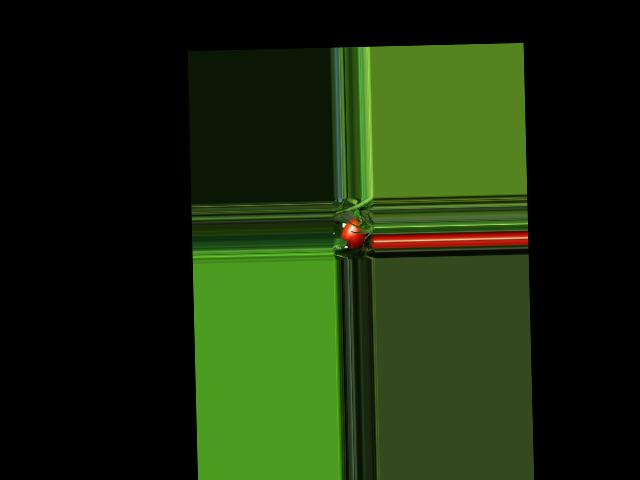tomato: (340, 218, 367, 249)
